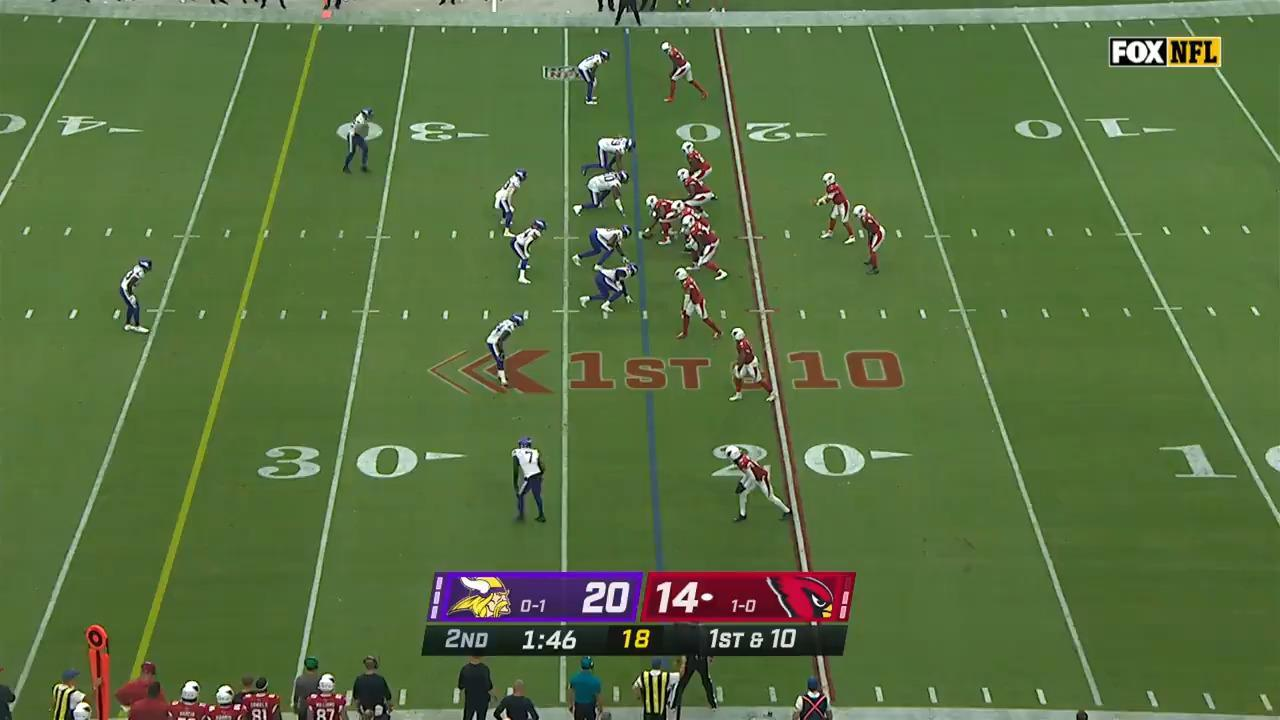player: (719, 442, 791, 524), (507, 433, 551, 529), (724, 323, 774, 403), (676, 268, 725, 344), (578, 260, 638, 319), (659, 40, 711, 107), (479, 310, 522, 391), (813, 170, 856, 247), (117, 255, 156, 336), (572, 225, 638, 272), (573, 169, 634, 218), (682, 215, 727, 279), (513, 217, 552, 287), (341, 103, 377, 177), (854, 203, 888, 281), (491, 168, 528, 239), (641, 193, 688, 244), (574, 48, 610, 111), (581, 136, 635, 176), (676, 168, 720, 214), (680, 140, 713, 183), (672, 200, 711, 234)
ref: (616, 0, 643, 27)
